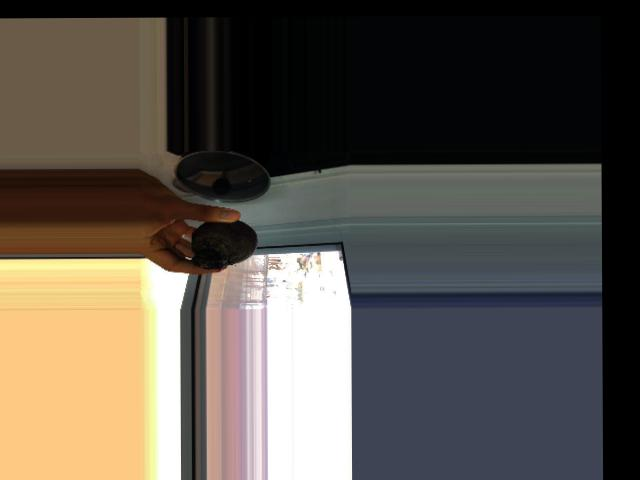beet: (172, 219, 258, 269)
